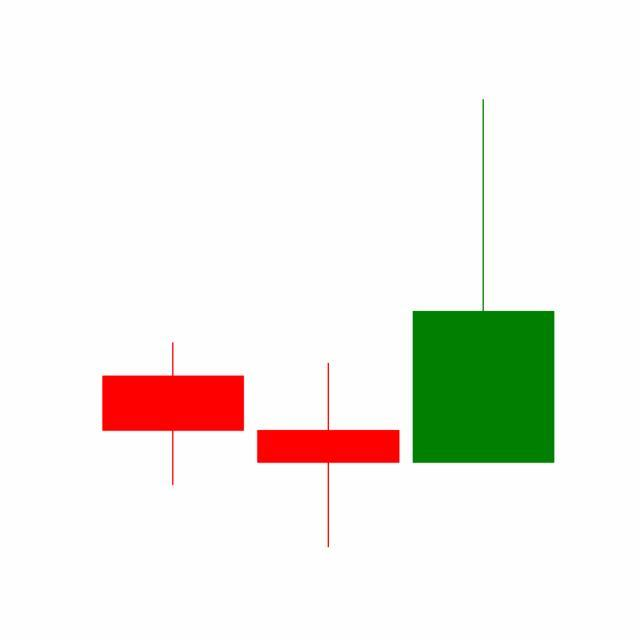Spinning Top: (250, 361, 407, 550)
